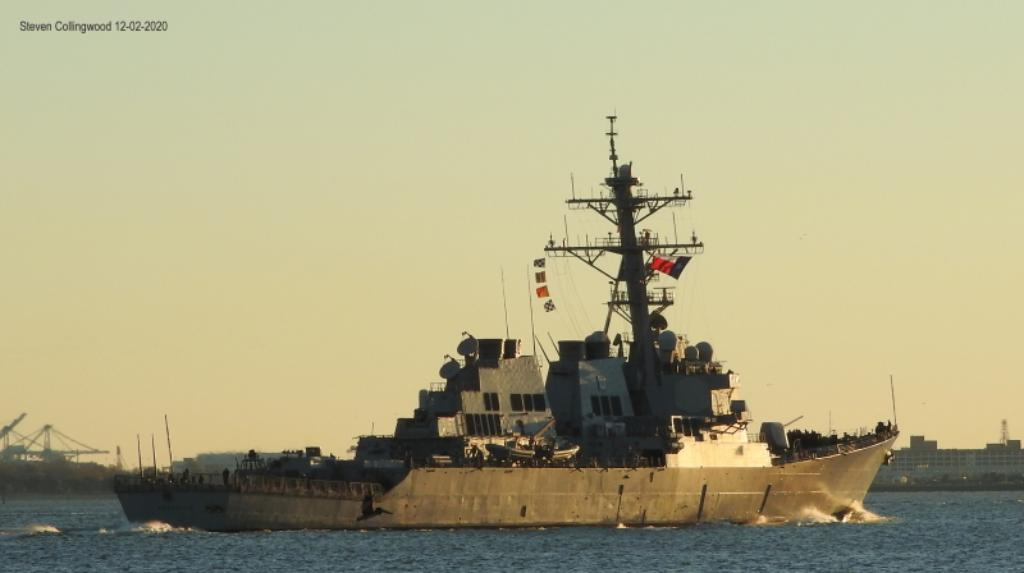Warship: (104, 108, 902, 530)
